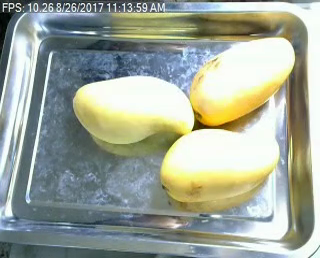Mango: (186, 31, 297, 125), (158, 126, 283, 209), (70, 73, 196, 146)
